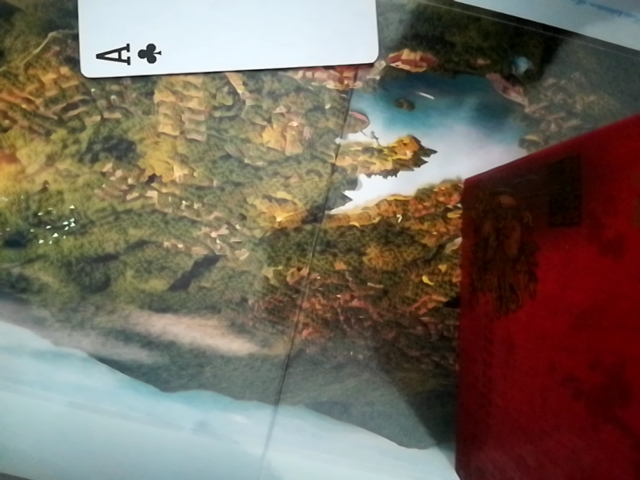mh a: (59, 4, 372, 81)
